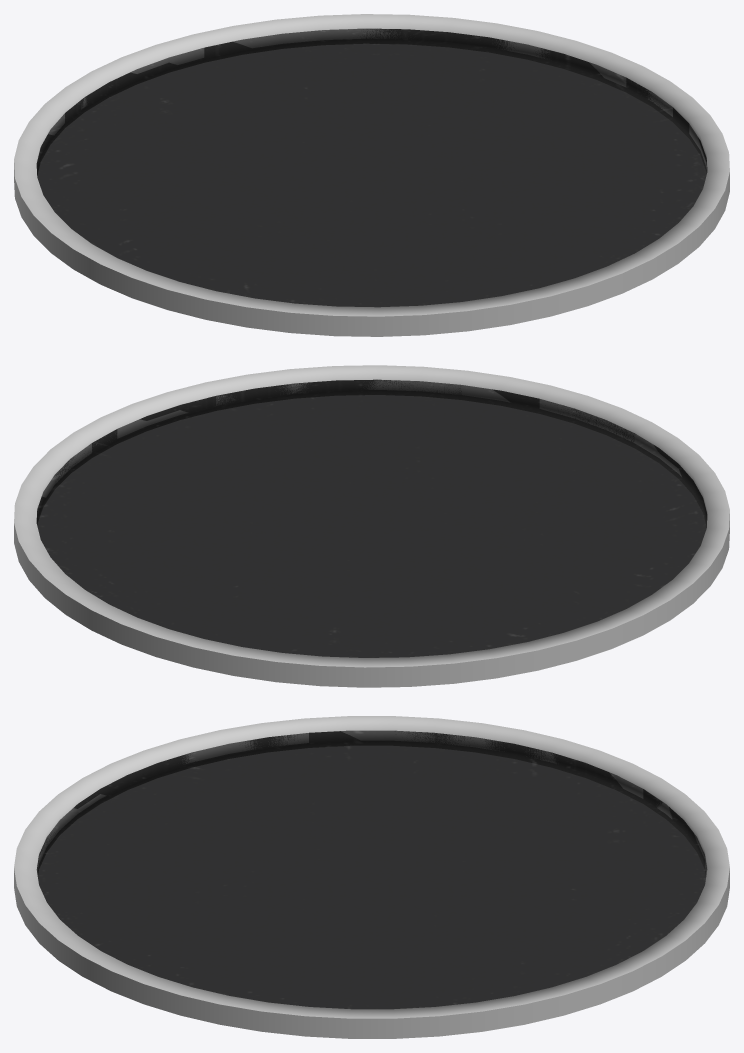
Rendered from glass_2x2_circle.fbx.
The picture shows the model from 3 angles, top to bottom: view 1: azimuth 30°, elevation 25°; view 2: azimuth 150°, elevation 25°; view 3: azimuth 270°, elevation 25°; orthographic projection.
Visible parts, largest first — view 1: glass_2x2_circle; view 2: glass_2x2_circle; view 3: glass_2x2_circle.
Boxes of the visible parts, x1,y1,x2,y2 form: glass_2x2_circle: (14,14,729,336); glass_2x2_circle: (14,365,729,687); glass_2x2_circle: (14,716,729,1038).
Bounding box in the file's own units: 80 × 2.5 × 80.
